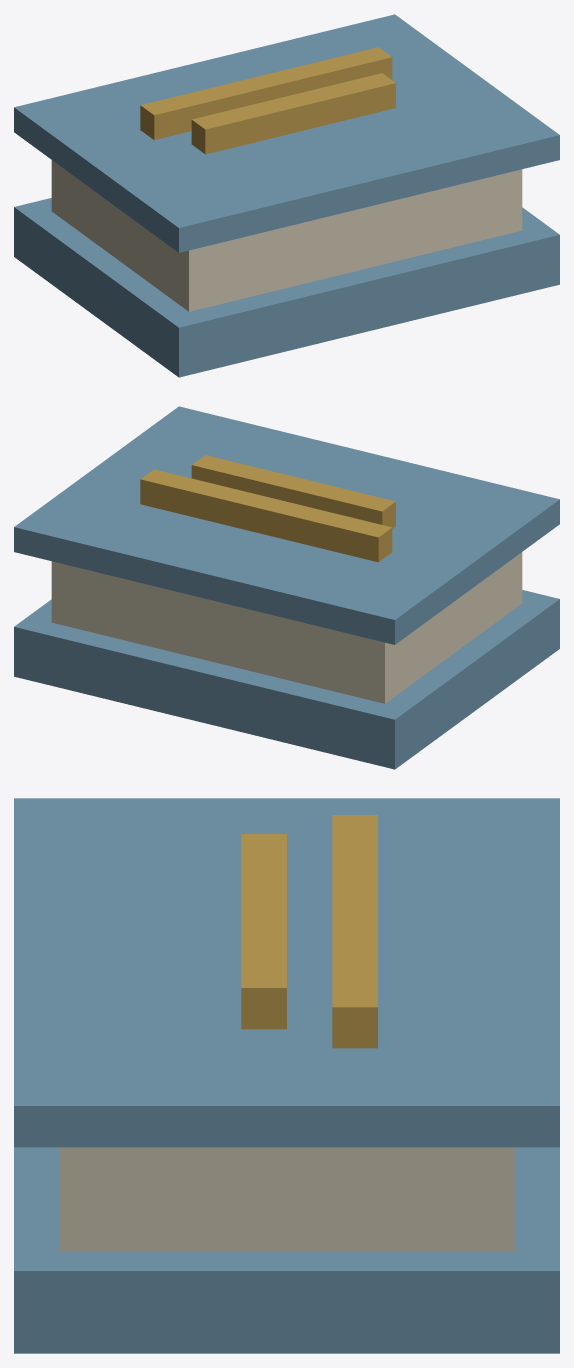
The picture shows the model from 3 angles, top to bottom: view 1: azimuth 30°, elevation 25°; view 2: azimuth 150°, elevation 25°; view 3: azimuth 270°, elevation 25°; orthographic projection. The views are drawn at different scales.
Parts seen in each view (by area): view 1: Language books; view 2: Language books; view 3: Language books.
Part boxes in pixels (x1,y1,x2,y2): Language books: (14,14,559,377); Language books: (14,406,559,769); Language books: (14,798,559,1353).
Bounding box in the file's own units: 1.28 × 0.56 × 0.96.
